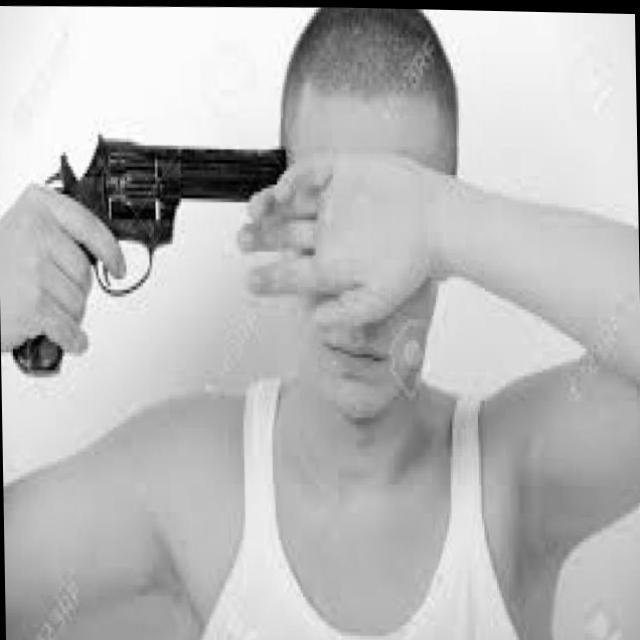weapon: (7, 122, 290, 378)
